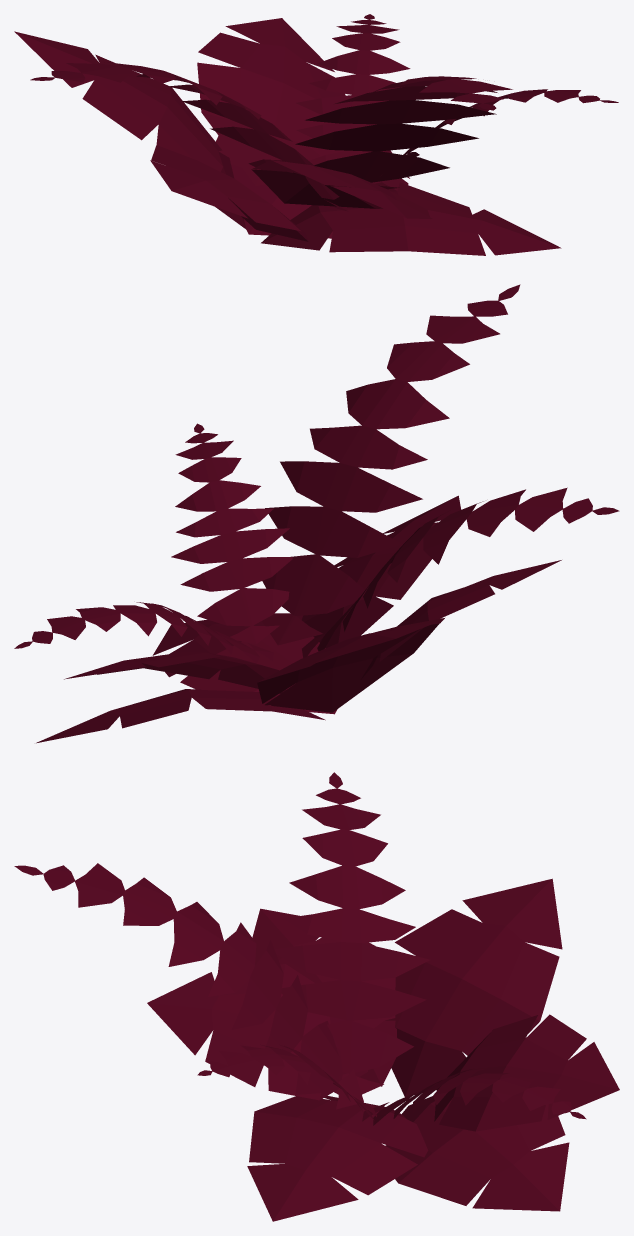
Rendered from grass_s3.fbx.
The picture shows the model from 3 angles, top to bottom: view 1: azimuth 30°, elevation 25°; view 2: azimuth 150°, elevation 25°; view 3: azimuth 270°, elevation 25°; orthographic projection. The views are drawn at different scales.
Parts seen in each view (by area): view 1: Plane.057; view 2: Plane.057; view 3: Plane.057.
Boxes of the visible parts, box(x1,y1,x2,y2) form: Plane.057: box(14, 14, 618, 255); Plane.057: box(14, 284, 619, 743); Plane.057: box(14, 772, 619, 1221).
Bounding box in the file's own units: 364 × 204 × 420.
